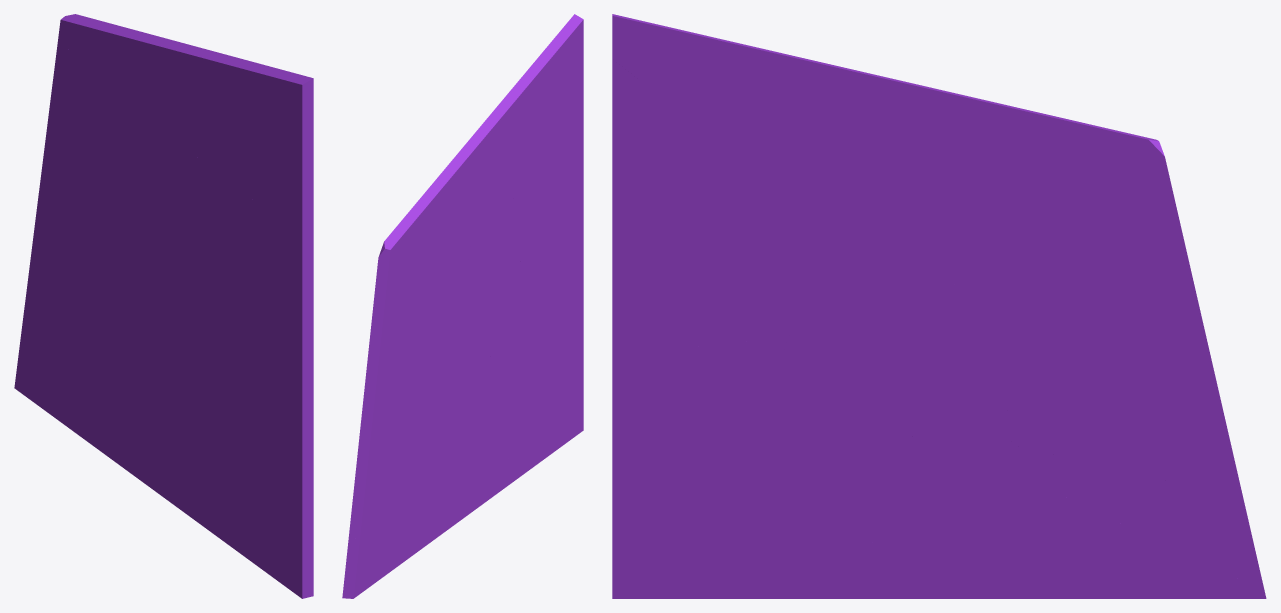
File: Window_42_0_chunks.fbx
The picture shows the model from 3 angles, left to right: view 1: azimuth 30°, elevation 25°; view 2: azimuth 150°, elevation 25°; view 3: azimuth 270°, elevation 25°; orthographic projection. The views are drawn at different scales.
Parts seen in each view (by area): view 1: Window_42_0_5, Window_42_0_28, Window_42_0_24, Window_42_0_7, Window_42_0_17, Window_42_0_26, Window_42_0_25, Window_42_0_8, Window_42_0_35, Window_42_0_14, Window_42_0_20, Window_42_0_3 (+20 smaller); view 2: Window_42_0_5, Window_42_0_28, Window_42_0_7, Window_42_0_24, Window_42_0_17, Window_42_0_26, Window_42_0_8, Window_42_0_25, Window_42_0_32, Window_42_0_14, Window_42_0_20, Window_42_0_3 (+20 smaller); view 3: Window_42_0_5, Window_42_0_7, Window_42_0_24, Window_42_0_28, Window_42_0_25, Window_42_0_8, Window_42_0_4, Window_42_0_12, Window_42_0_17, Window_42_0_10, Window_42_0_27, Window_42_0_26 (+21 smaller).
Part boxes in pixels (left/top/right/bottom): Window_42_0_5: left=21, top=190, right=132, bottom=350; Window_42_0_28: left=205, top=54, right=313, bottom=192; Window_42_0_24: left=236, top=435, right=313, bottom=598; Window_42_0_7: left=39, top=32, right=104, bottom=210; Window_42_0_17: left=14, top=349, right=115, bottom=447; Window_42_0_26: left=202, top=181, right=291, bottom=374; Window_42_0_25: left=235, top=322, right=313, bottom=466; Window_42_0_8: left=103, top=109, right=171, bottom=217; Window_42_0_35: left=267, top=118, right=313, bottom=288; Window_42_0_14: left=100, top=348, right=195, bottom=477; Window_42_0_20: left=174, top=249, right=233, bottom=380; Window_42_0_3: left=125, top=217, right=193, bottom=397; Window_42_0_5: left=350, top=333, right=448, bottom=550; Window_42_0_28: left=503, top=14, right=583, bottom=183; Window_42_0_7: left=362, top=257, right=425, bottom=410; Window_42_0_24: left=531, top=323, right=583, bottom=454; Window_42_0_17: left=342, top=468, right=434, bottom=598; Window_42_0_26: left=504, top=182, right=574, bottom=287; Window_42_0_8: left=424, top=191, right=479, bottom=352; Window_42_0_25: left=529, top=259, right=583, bottom=353; Window_42_0_32: left=408, top=127, right=488, bottom=229; Window_42_0_14: left=422, top=435, right=498, bottom=505; Window_42_0_20: left=481, top=264, right=528, bottom=373; Window_42_0_3: left=442, top=305, right=496, bottom=413; Window_42_0_5: left=996, top=306, right=1243, bottom=499; Window_42_0_7: left=1059, top=156, right=1208, bottom=348; Window_42_0_24: left=612, top=453, right=757, bottom=598; Window_42_0_28: left=612, top=14, right=829, bottom=177; Window_42_0_25: left=612, top=340, right=781, bottom=459; Window_42_0_8: left=906, top=151, right=1062, bottom=319; Window_42_0_4: left=1004, top=444, right=1264, bottom=591; Window_42_0_12: left=715, top=444, right=901, bottom=598; Window_42_0_17: left=1032, top=492, right=1266, bottom=598; Window_42_0_10: left=895, top=298, right=1011, bottom=450; Window_42_0_27: left=765, top=62, right=891, bottom=220; Window_42_0_26: left=652, top=198, right=833, bottom=351.
Size of the model in its own units: 27.2 by 1187 by 1207.
